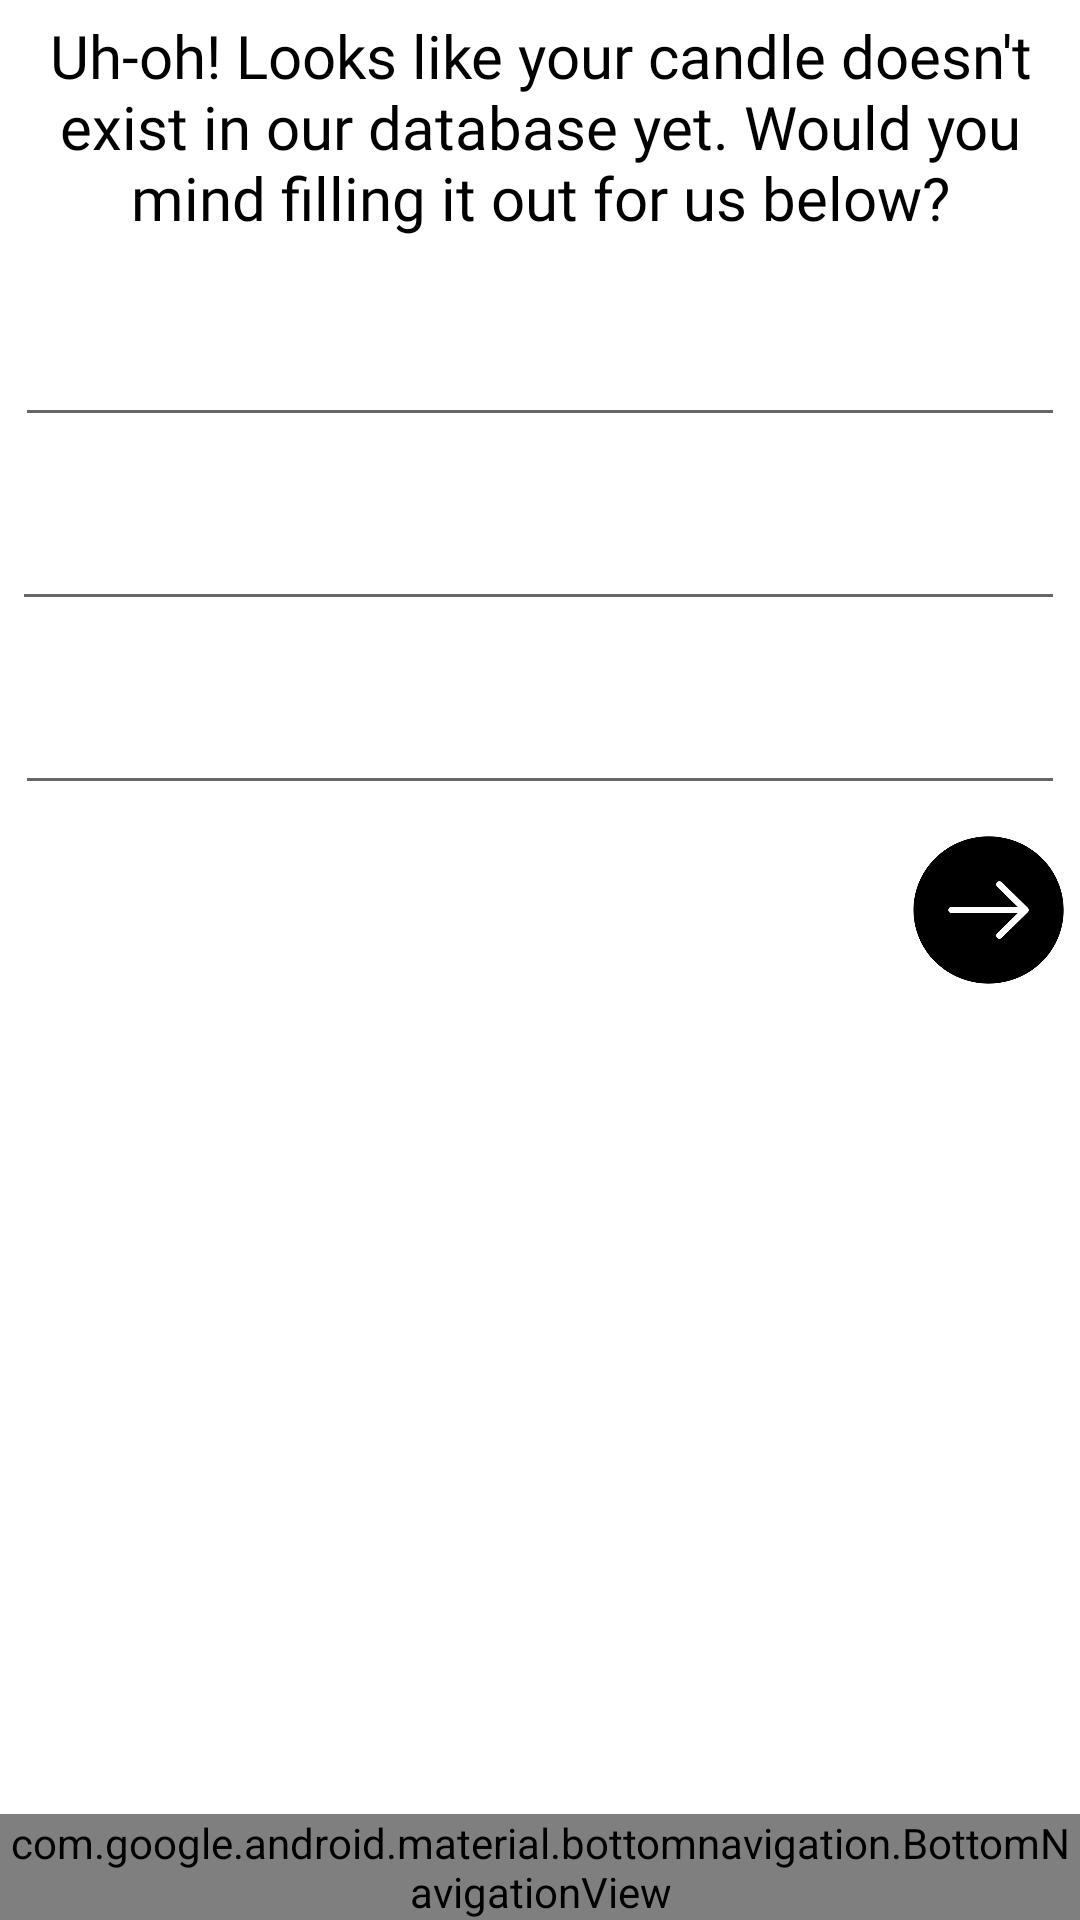

Where icons sit on this 1080w x 1920h app screen, as [x1,y1,x2,y2]:
arrow: [913,836,1064,984]
